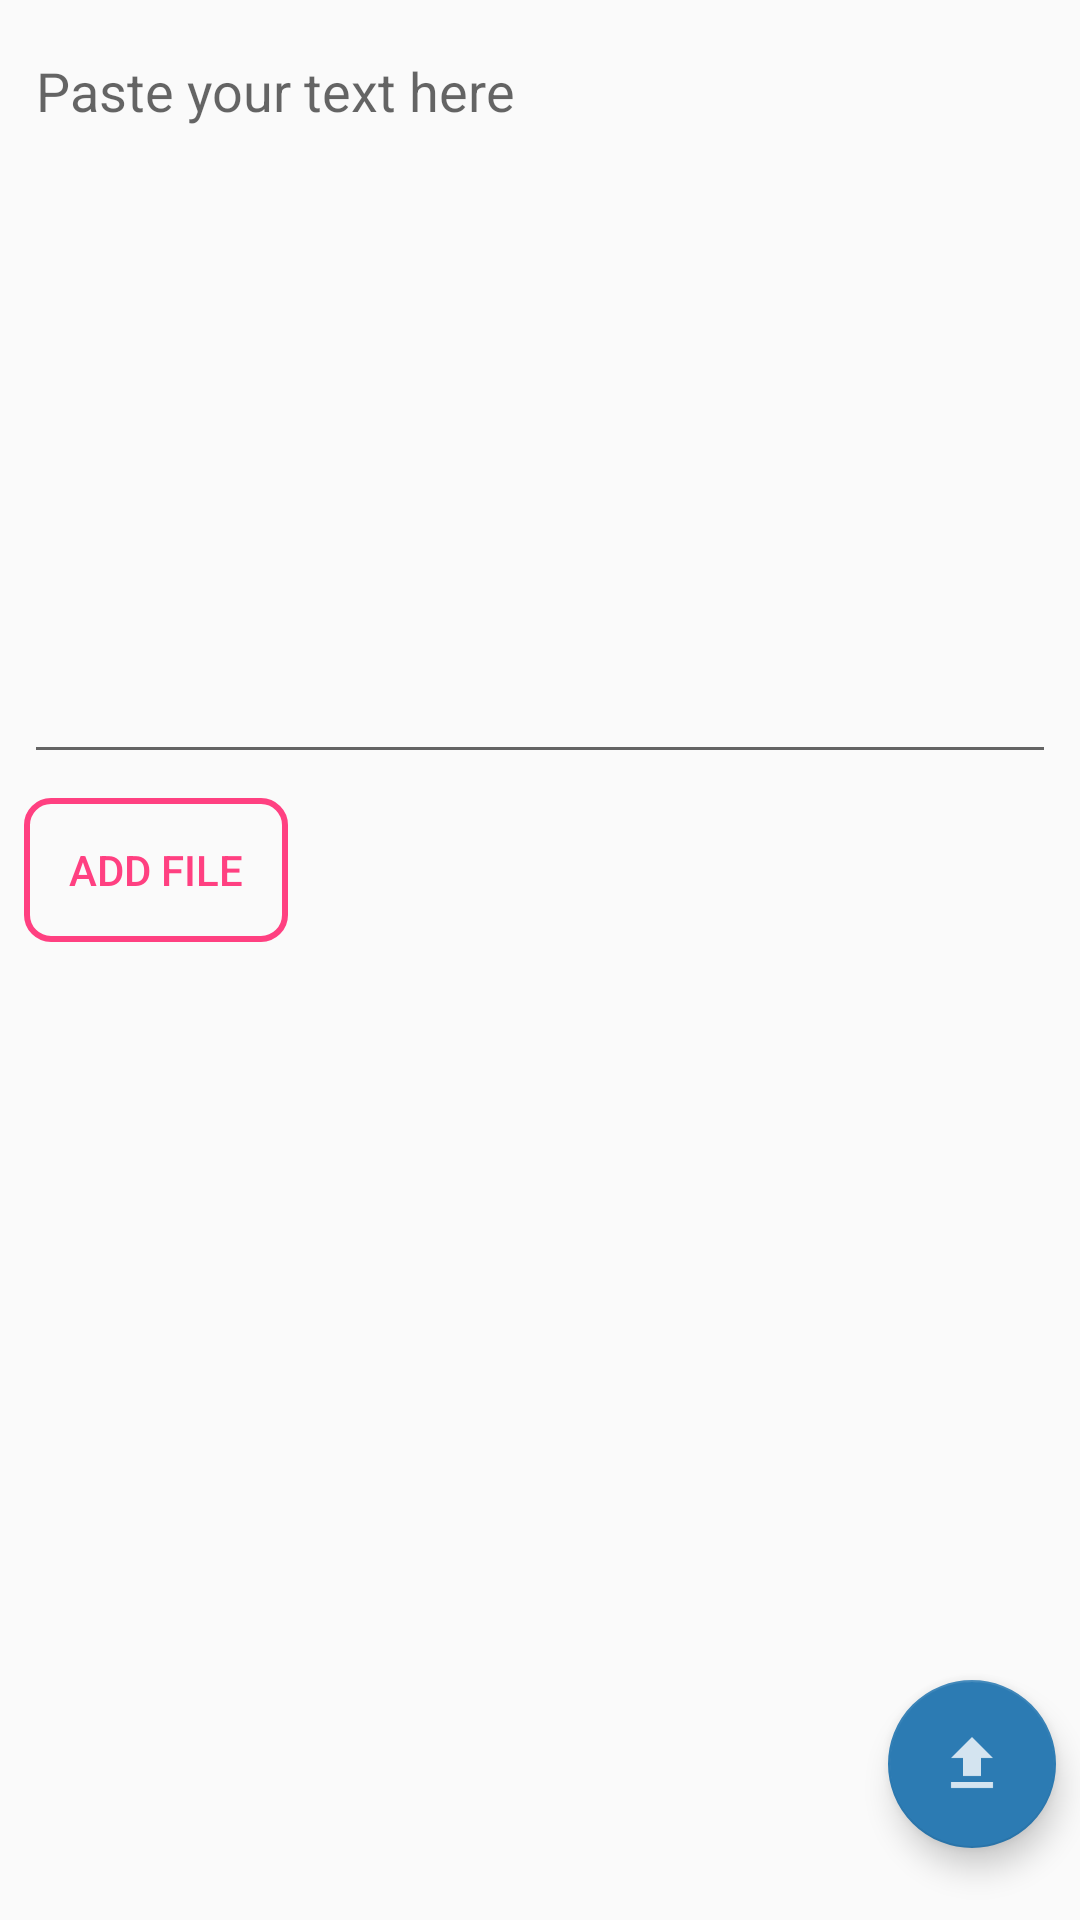

Where to tap for icons on this 1080px x 1920px app screen, as [x,y]:
file upload: [972,1764]
